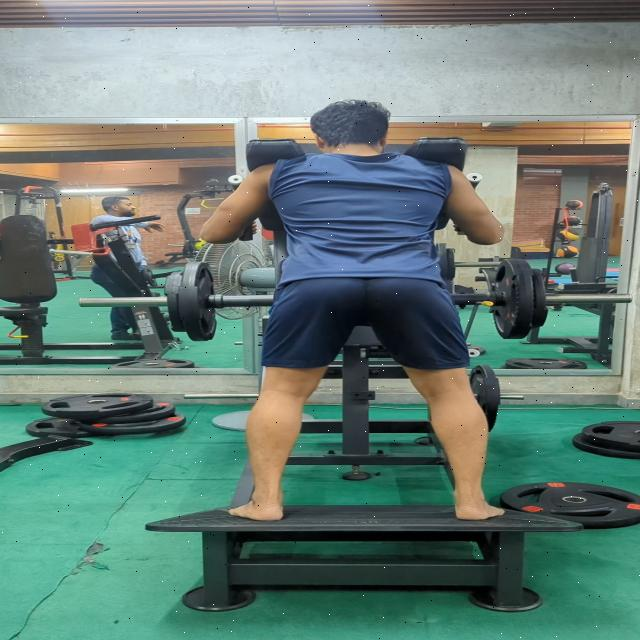Normal_SquatsWithBarbell: (190, 102, 530, 522)
